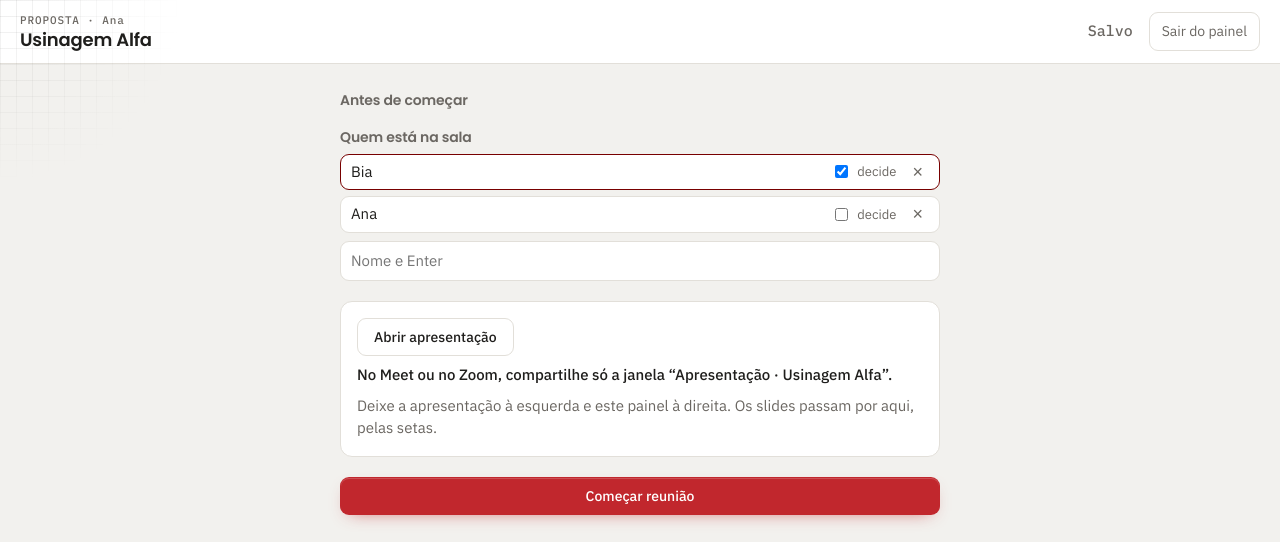
it: a janela que abre recebe o estado inteiro
The width and height of the screenshot is (1280, 542).
Click the button "Começar reunião".
click(640, 496)  # box top-left (340, 477), bottom-right (940, 515)
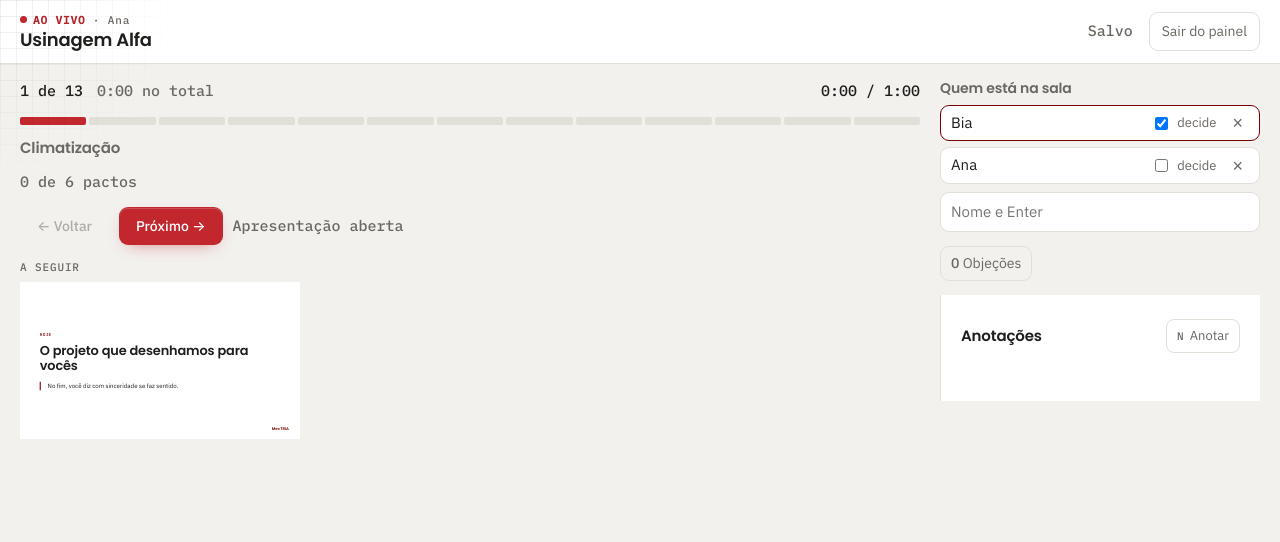
expect the text "1 de 13" is shown: met, box top-left (20, 80), bottom-right (83, 102)
